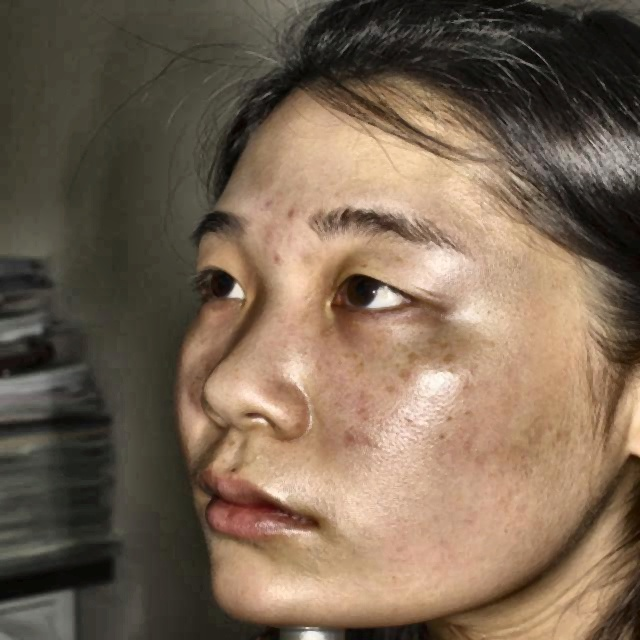comedone: (260, 254, 285, 266), (285, 206, 298, 226)
